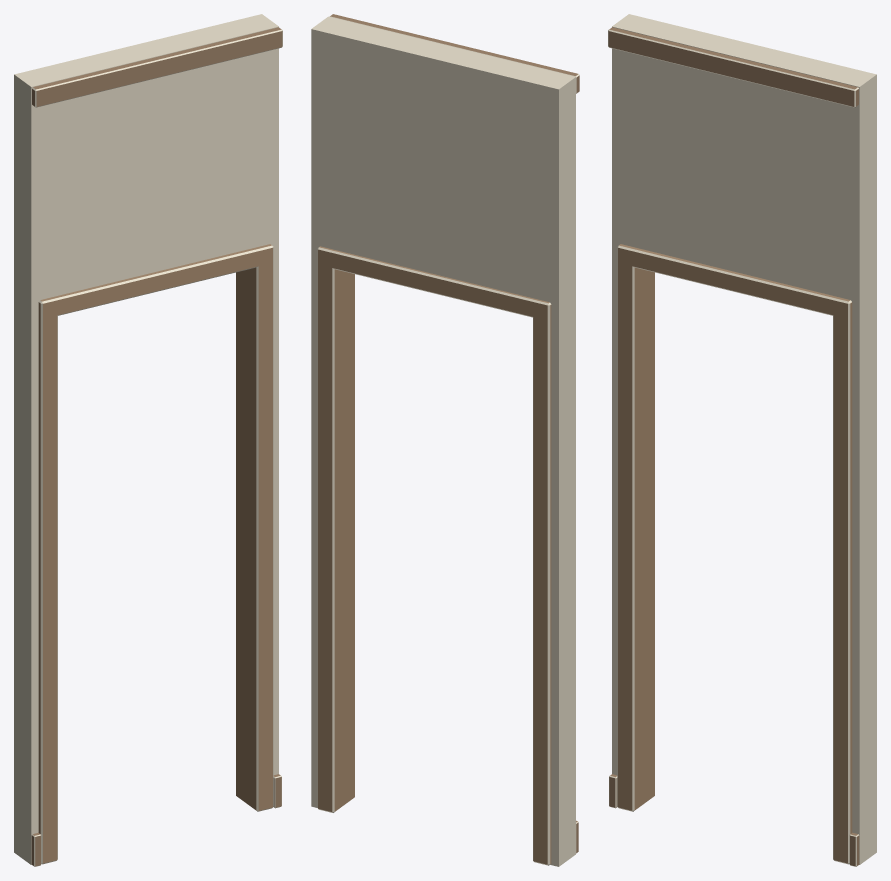
File: muro_puerta_300.glb
3 views of the same model, side by side, from view 1: azimuth 30°, elevation 25°; view 2: azimuth 150°, elevation 25°; view 3: azimuth 330°, elevation 25° (orthographic).
Visible parts, largest first — view 1: muro_puerta_300; view 2: muro_puerta_300; view 3: muro_puerta_300.
Part boxes in pixels (bbox=[...]): muro_puerta_300: bbox=[14, 14, 282, 866]; muro_puerta_300: bbox=[311, 14, 579, 866]; muro_puerta_300: bbox=[608, 14, 876, 866].
Bounding box in the file's own units: 1 × 3 × 0.165.
